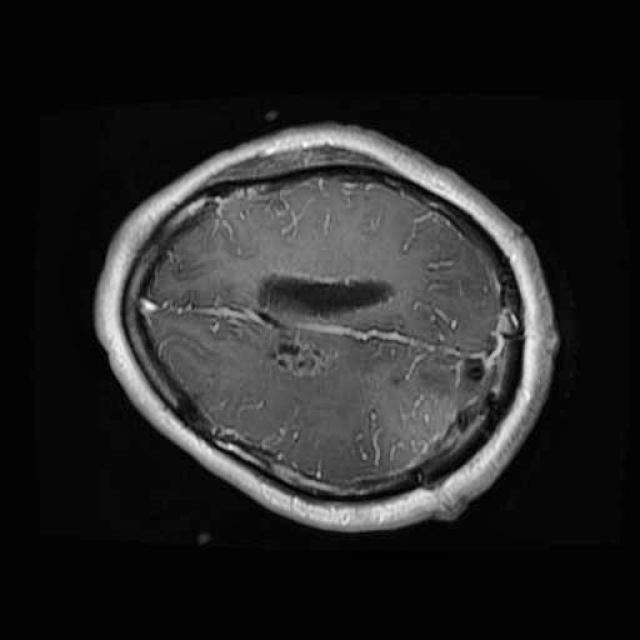Non-Tumor: (251, 322, 348, 390)
